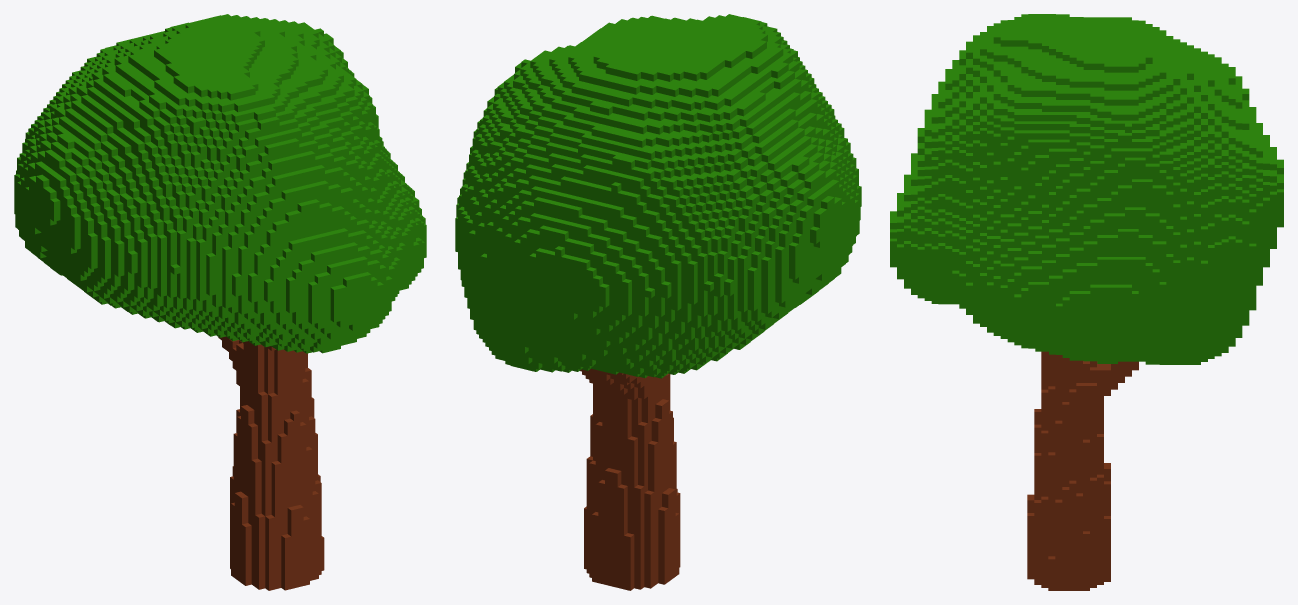
Rendered from Tree2.fbx.
3 renders of one model, left to right at view 1: azimuth 30°, elevation 25°; view 2: azimuth 150°, elevation 25°; view 3: azimuth 270°, elevation 25°, orthographic. The views are drawn at different scales.
Visible parts, largest first — view 1: Cube.033; view 2: Cube.033; view 3: Cube.033.
Boxes of the visible parts, x1,y1,x2,y2 form: Cube.033: (14, 14, 426, 590); Cube.033: (455, 14, 861, 590); Cube.033: (890, 14, 1283, 590).
Bounding box in the file's own units: 165 × 243 × 171.
